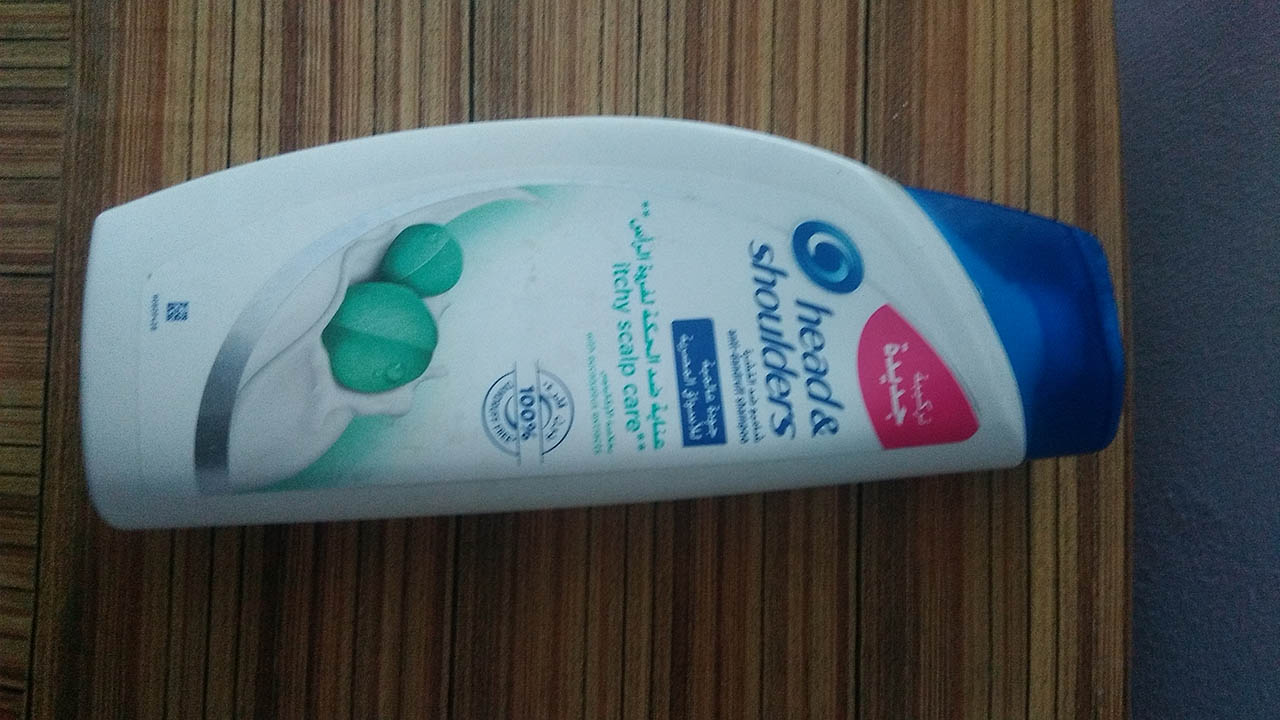shampoo-green 4.5$: (72, 138, 1124, 513)
